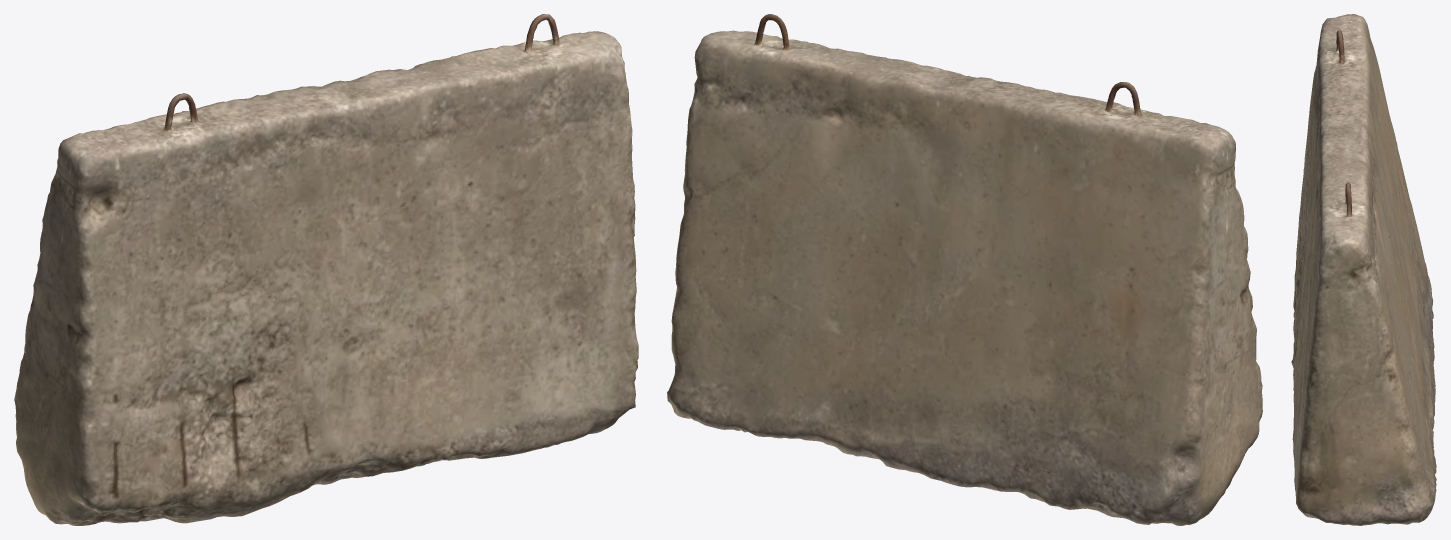
File: road_barrier.glb
3 renders of one model, left to right at view 1: azimuth 30°, elevation 25°; view 2: azimuth 150°, elevation 25°; view 3: azimuth 270°, elevation 25°, orthographic. The views are drawn at different scales.
Visible parts, largest first — view 1: concrete_road_barrier_02; view 2: concrete_road_barrier_02; view 3: concrete_road_barrier_02.
Boxes of the visible parts, bbox=[...] form: concrete_road_barrier_02: bbox=[14, 14, 638, 525]; concrete_road_barrier_02: bbox=[667, 14, 1262, 525]; concrete_road_barrier_02: bbox=[1291, 14, 1436, 525].
Bounding box in the file's own units: 1.57 × 1.11 × 0.4422.
Materials: 1 (1 with a texture image).
